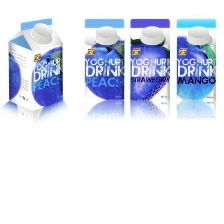carton: (5, 16, 64, 111), (82, 13, 126, 101), (128, 15, 171, 102), (174, 16, 217, 102)
